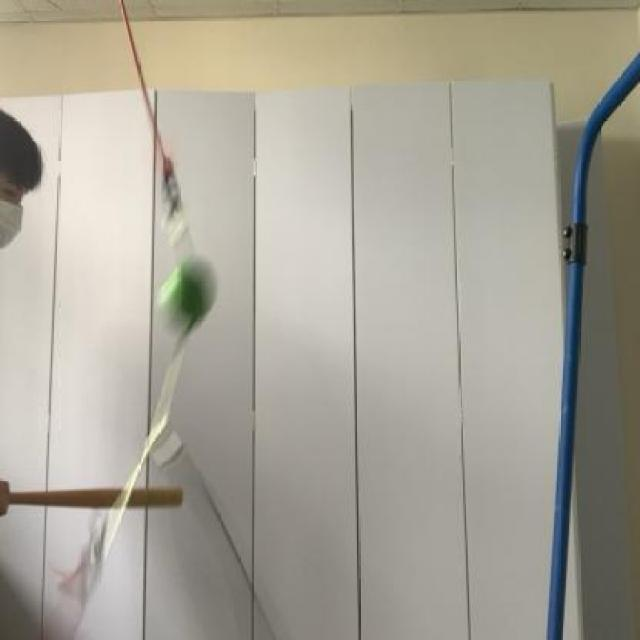baseball: (153, 255, 216, 347)
